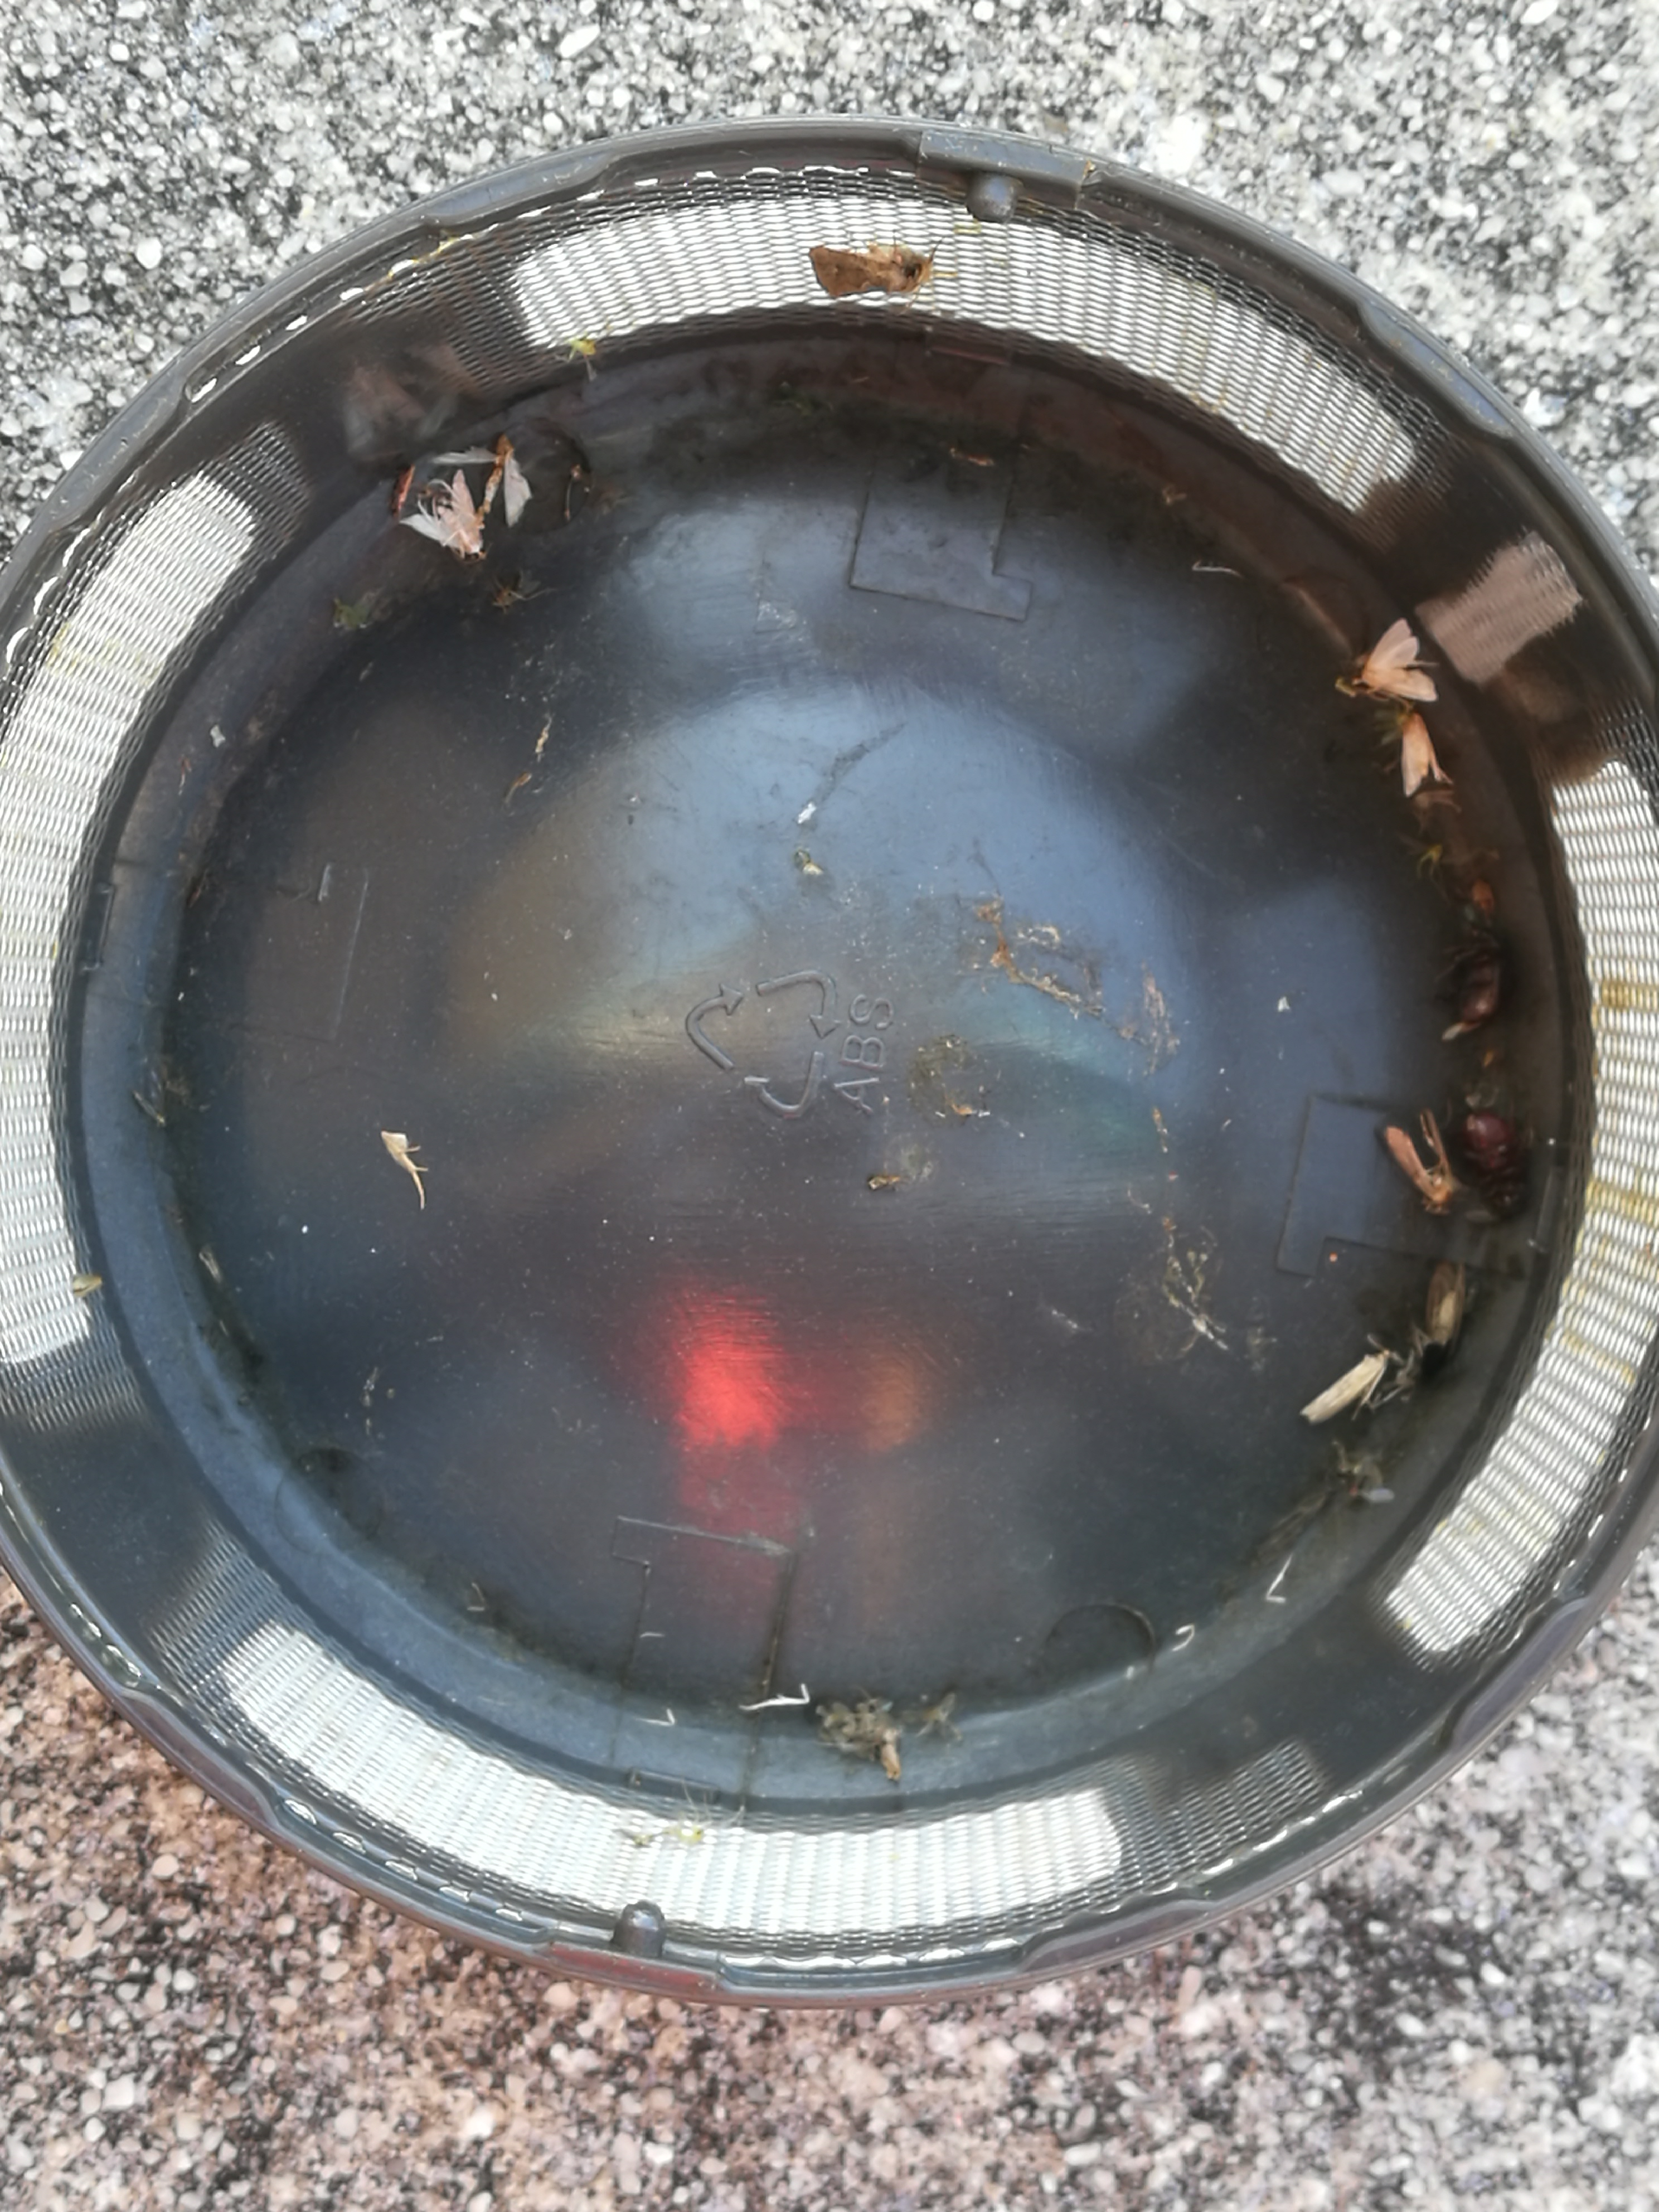beetle: (1466, 1115, 1527, 1211), (1459, 932, 1500, 1024)
mosquito: (1378, 1111, 1450, 1205), (1302, 1350, 1391, 1425), (479, 434, 533, 524), (1425, 1263, 1459, 1357)
moth: (397, 469, 484, 557), (1349, 618, 1438, 702), (809, 242, 925, 300), (1401, 709, 1452, 794)
